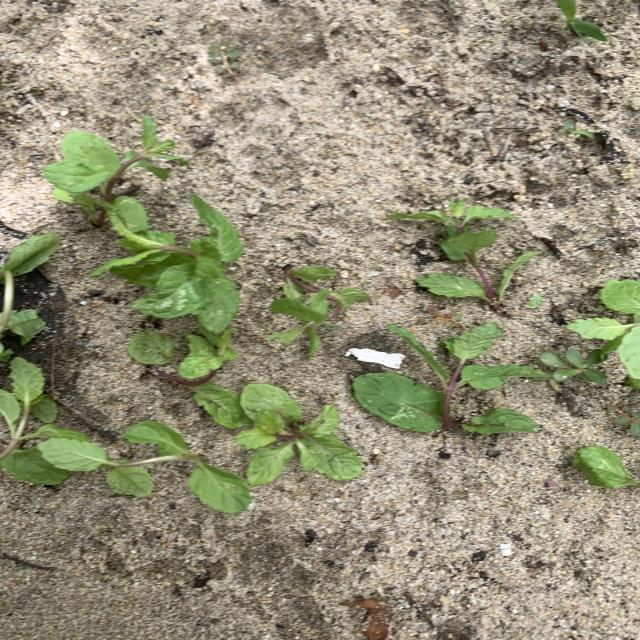crop: (354, 323, 541, 433), (93, 194, 242, 332), (1, 358, 151, 494), (42, 116, 175, 231), (223, 384, 362, 485), (120, 421, 250, 512), (271, 267, 370, 354), (568, 280, 639, 384), (1, 234, 57, 362), (417, 225, 499, 308), (386, 200, 517, 235), (573, 446, 639, 486)
weed: (531, 349, 606, 388), (391, 327, 446, 376), (341, 599, 391, 639), (558, 0, 606, 40), (208, 42, 242, 73), (263, 329, 303, 347), (616, 408, 639, 434), (564, 122, 595, 138), (525, 295, 542, 307)
